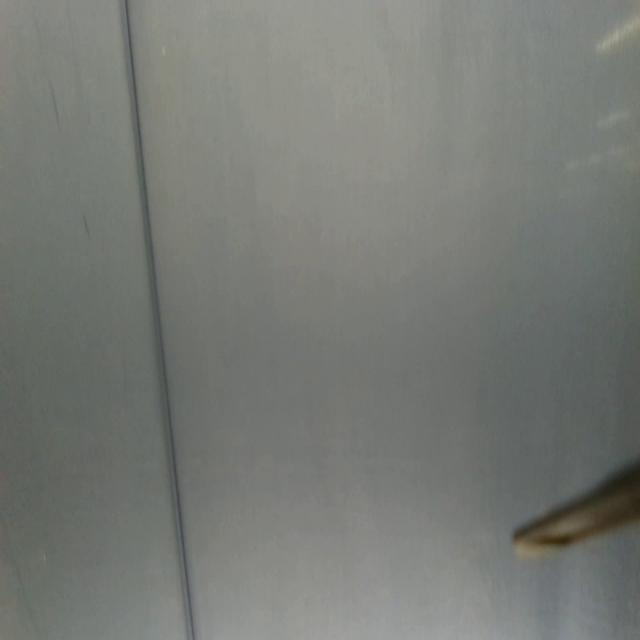crease: (119, 0, 194, 638), (29, 2, 92, 246)
